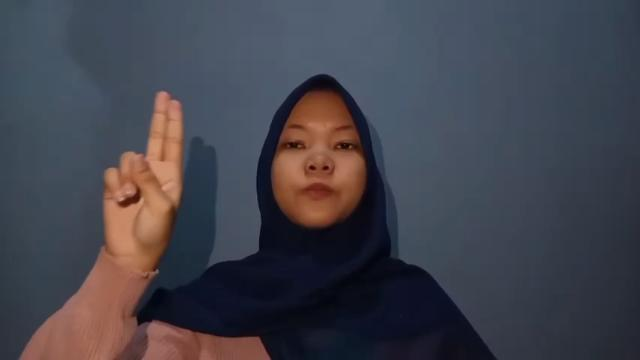U: (100, 85, 194, 265)
